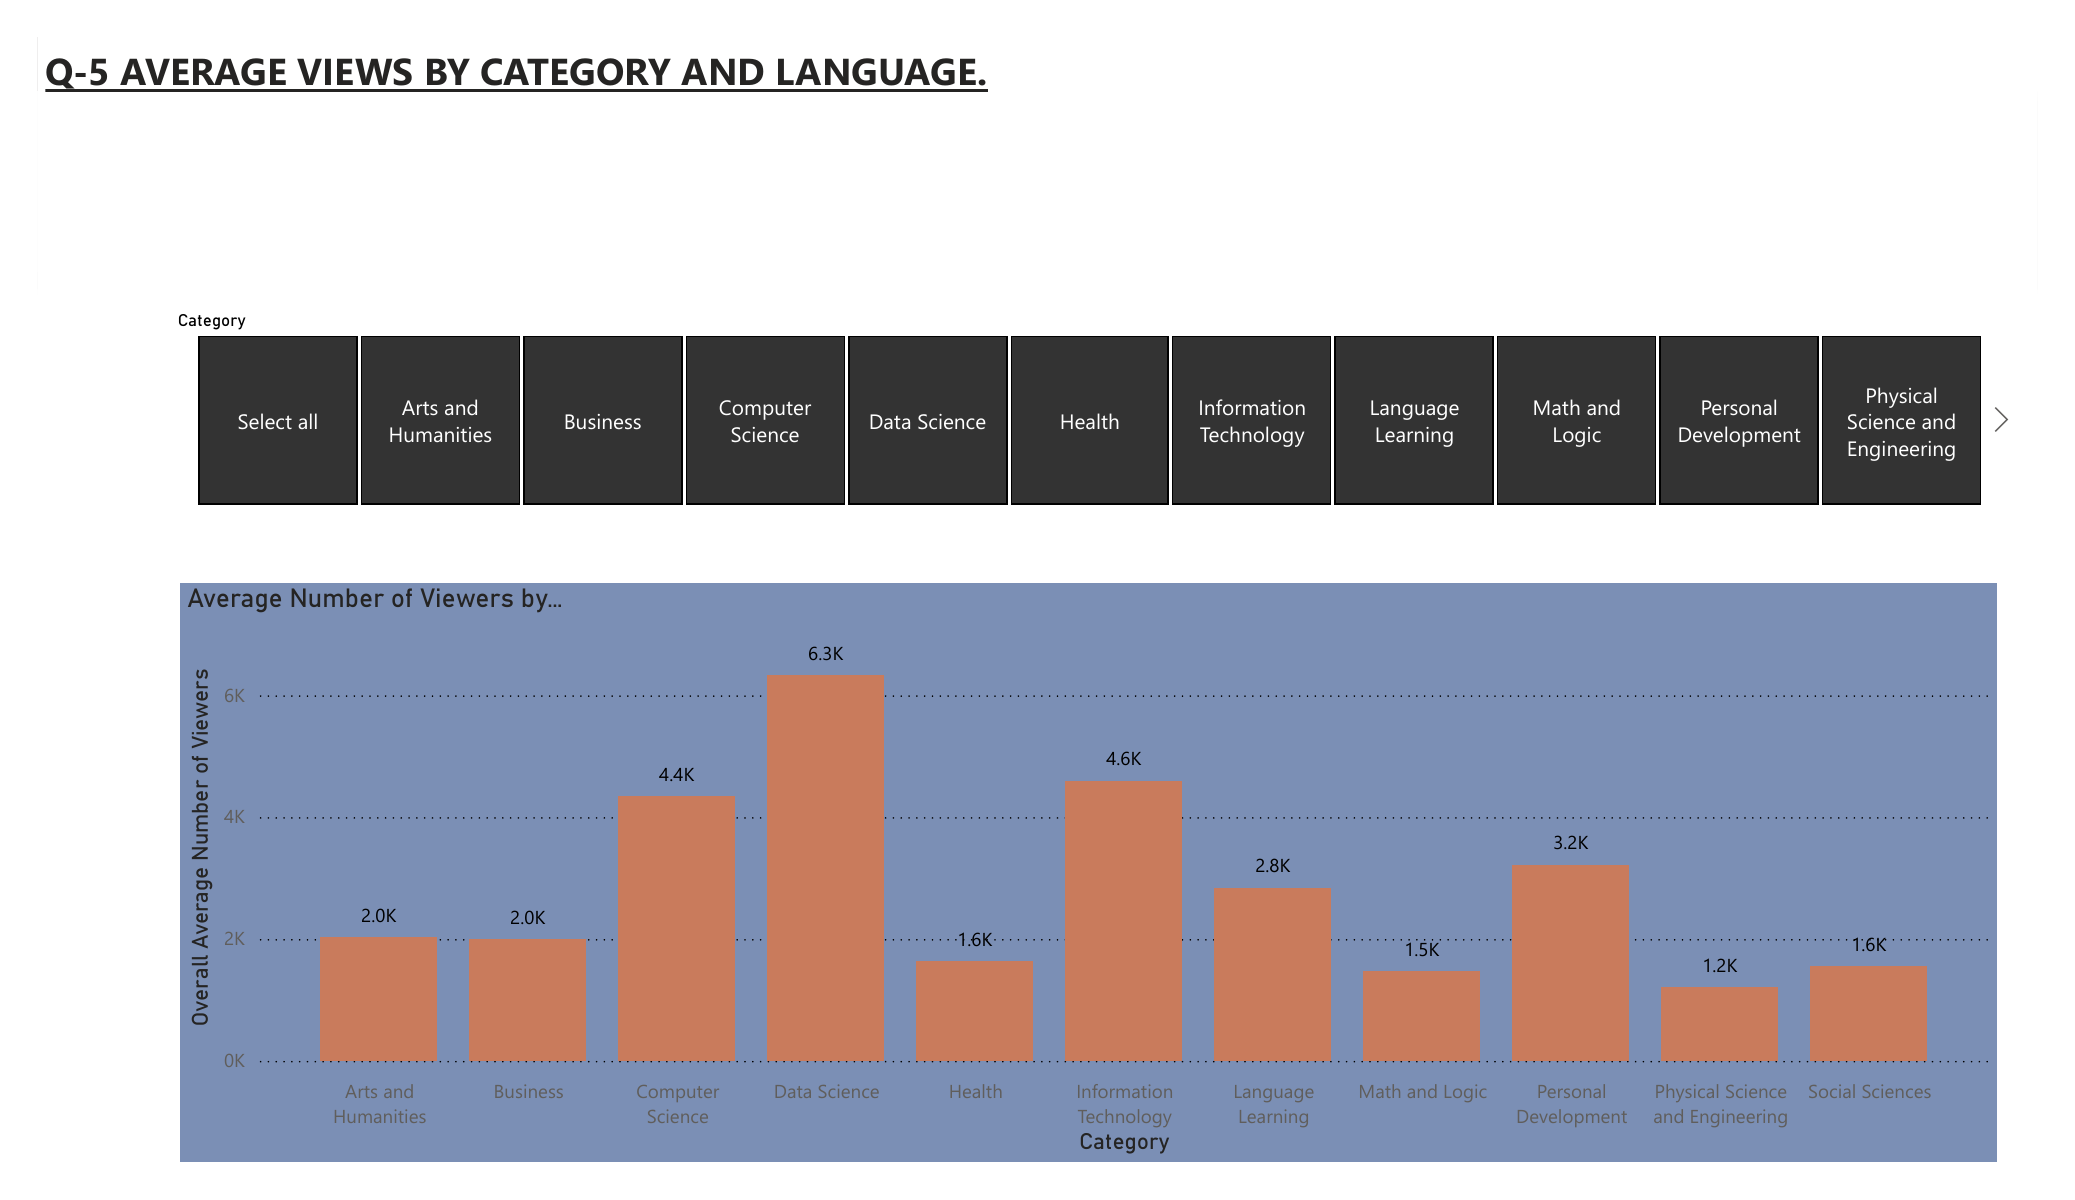

This screenshot's page, from the dashboard's own definition file:
{"tool":"powerbi","page":{"name":"Q-5","canvas":[1280,720],"ordinal":5},"visuals":[{"type":"slicer","fields":{"Values":["Online_Courses.Category"]},"box":[76.8,170.2,1191.1,135.8],"z":0},{"type":"clusteredColumnChart","title":"Average Number of Viewers by...","fields":{"Category":["Online_Courses.Category","Online_Courses.Sub-Category","Online_Courses.Language"],"Y":["Online_Courses.Overall Average Number of Viewers"]},"box":[90.6,348.5,1163.6,371.9],"z":1000},{"type":"textbox","box":[0,0,1191.1,149.6],"z":2000}]}

Visuals, with their boxes on the page's 1280x720 design canvas (x1, y1, x2, y2). These are canvas units, not pixel positions in the 2075x1200 screenshot, which may show the page scaled, cropped or inside an application window:
slicer - Online_Courses.Category: {"x1": 77, "y1": 170, "x2": 1268, "y2": 306}
"Average Number of Viewers by..." clusteredColumnChart: {"x1": 91, "y1": 348, "x2": 1254, "y2": 720}
textbox: {"x1": 0, "y1": 0, "x2": 1191, "y2": 150}
